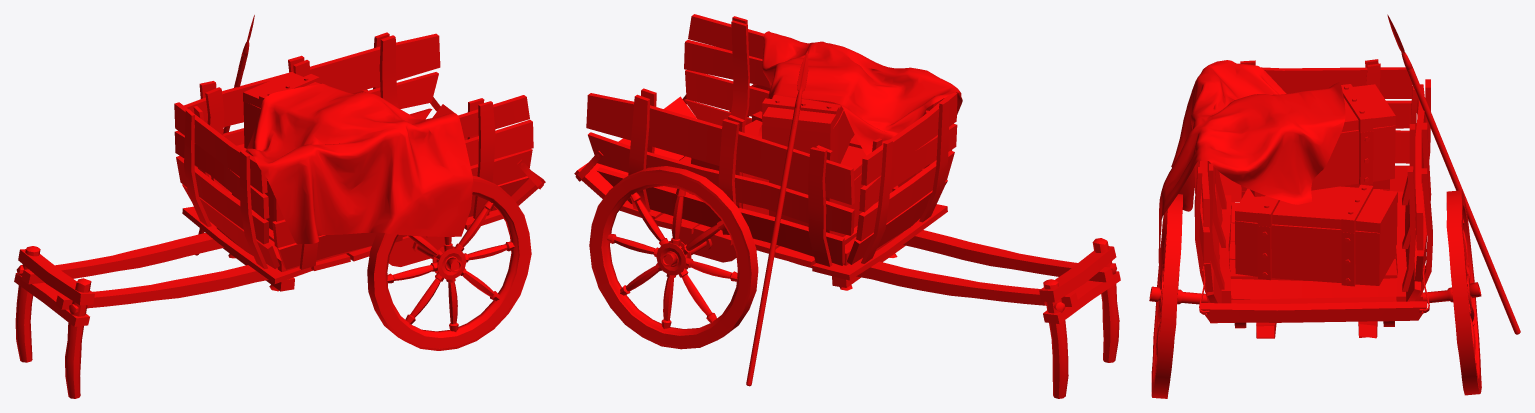
3 renders of one model, left to right at view 1: azimuth 30°, elevation 25°; view 2: azimuth 150°, elevation 25°; view 3: azimuth 270°, elevation 25°, orthographic. The views are drawn at different scales.
Visible parts, largest first — view 1: Object012 (×5); view 2: Object012 (×5); view 3: Object012 (×5).
Boxes of the visible parts, box(x1,y1,x2,y2) form: Object012 (×5): box(14, 15, 545, 398); Object012 (×5): box(574, 14, 1120, 398); Object012 (×5): box(1149, 14, 1520, 398).
Size of the model in its own units: 2 by 1.19 by 1.25.
